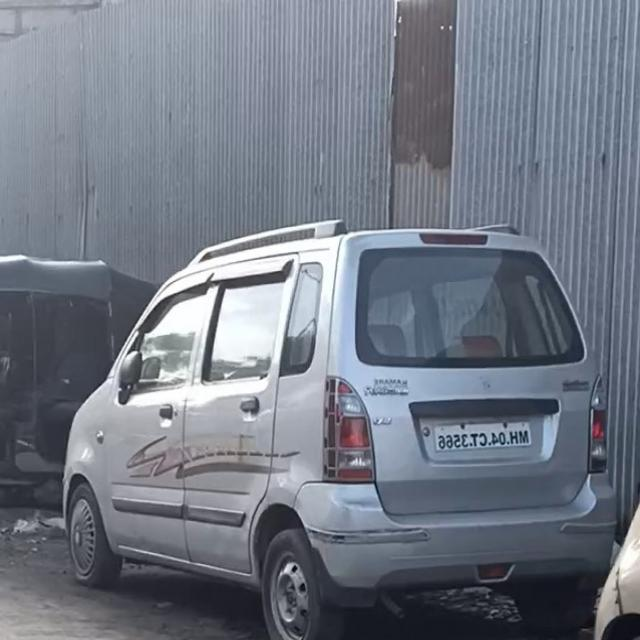license_plate: (433, 412, 534, 460)
